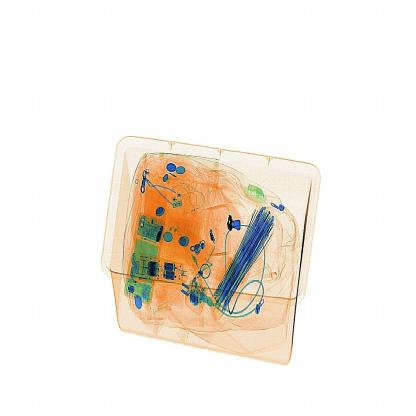wrench: (218, 200, 247, 236)
